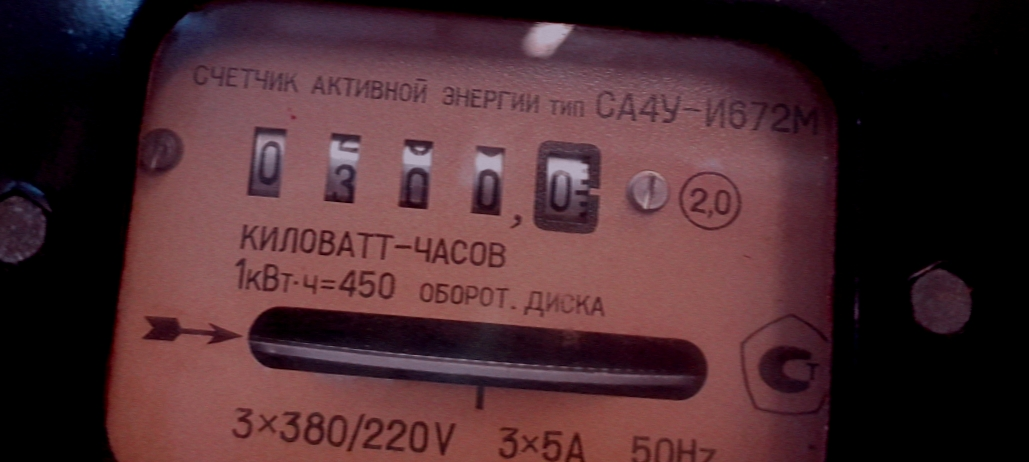0: (544, 168, 576, 218), (254, 137, 284, 190), (399, 163, 430, 213), (470, 168, 502, 216)
3: (327, 161, 358, 206)
screen: (225, 110, 613, 246)
